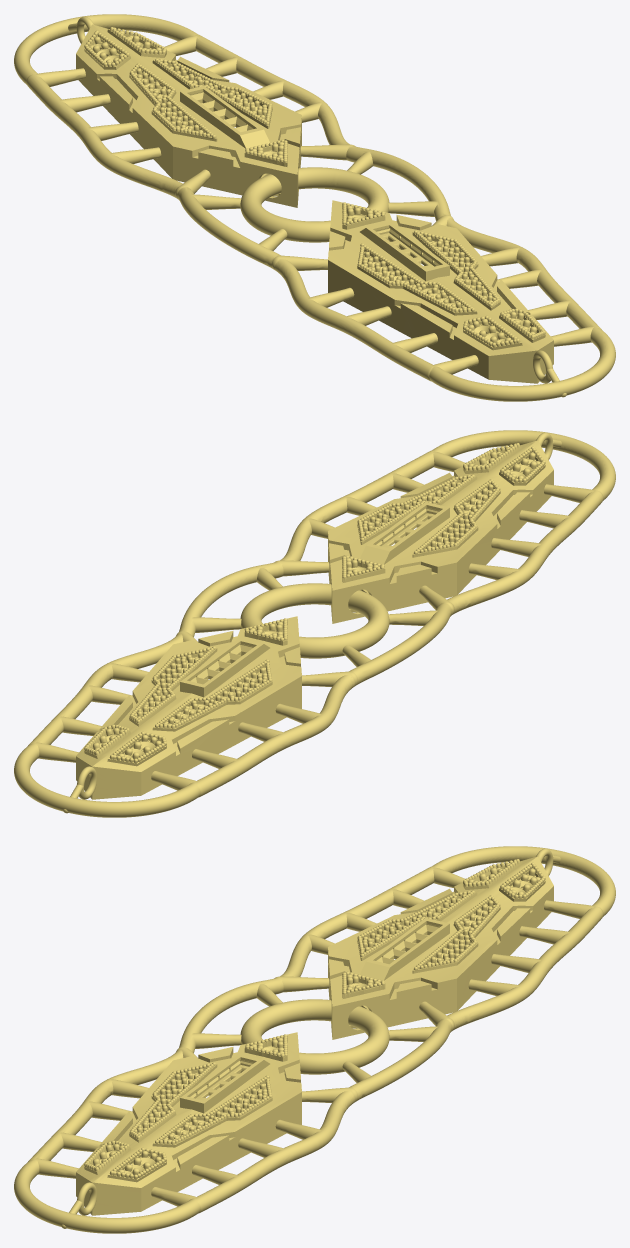
The model's file is serenay.glb.
3 views of the same model, one above another, from view 1: azimuth 30°, elevation 25°; view 2: azimuth 150°, elevation 25°; view 3: azimuth 330°, elevation 25° (orthographic).
Parts seen in each view (by area): view 1: Renderer Node; view 2: Renderer Node; view 3: Renderer Node.
Boxes of the visible parts, <box> form: Renderer Node: <box>14,14,615,401</box>; Renderer Node: <box>14,430,615,817</box>; Renderer Node: <box>14,846,615,1233</box>.
Size of the model in its own units: 24.63 by 4.38 by 94.88.
